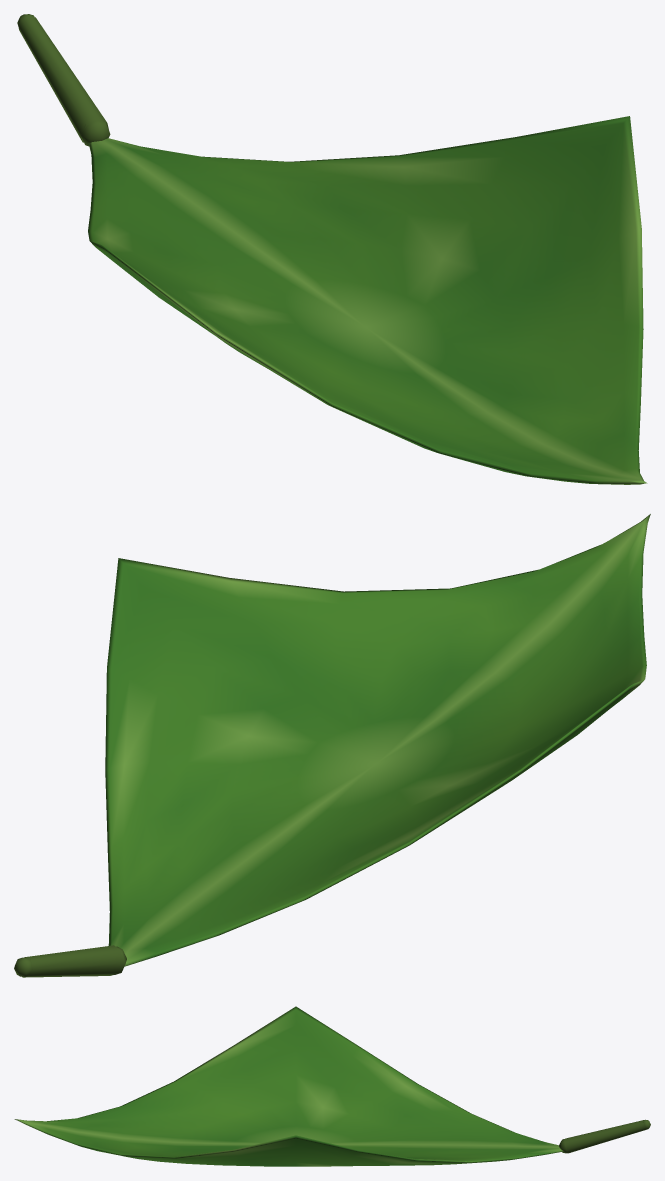
File: LeafRaft.glb
3 renders of one model, top to bottom at view 1: azimuth 30°, elevation 25°; view 2: azimuth 150°, elevation 25°; view 3: azimuth 270°, elevation 25°, orthographic. The views are drawn at different scales.
Parts seen in each view (by area): view 1: RaftLeaf, RaftStem; view 2: RaftLeaf, RaftStem; view 3: RaftLeaf, RaftStem.
Part boxes in pixels (left/top/right/bottom): RaftLeaf: left=88, top=116, right=647, bottom=484; RaftStem: left=17, top=14, right=110, bottom=146; RaftLeaf: left=105, top=514, right=650, bottom=966; RaftStem: left=14, top=945, right=126, bottom=977; RaftLeaf: left=14, top=1006, right=563, bottom=1166; RaftStem: left=559, top=1119, right=650, bottom=1153.
Size of the model in its own units: 0.46 by 0.138 by 0.96.
